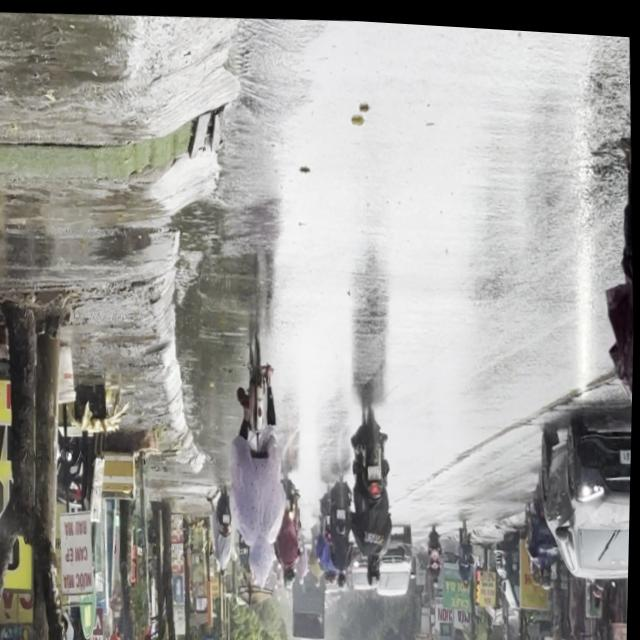helmet: (368, 556, 384, 585)
licenseplate: (346, 393, 401, 588)
nohelmet: (369, 461, 382, 476)
